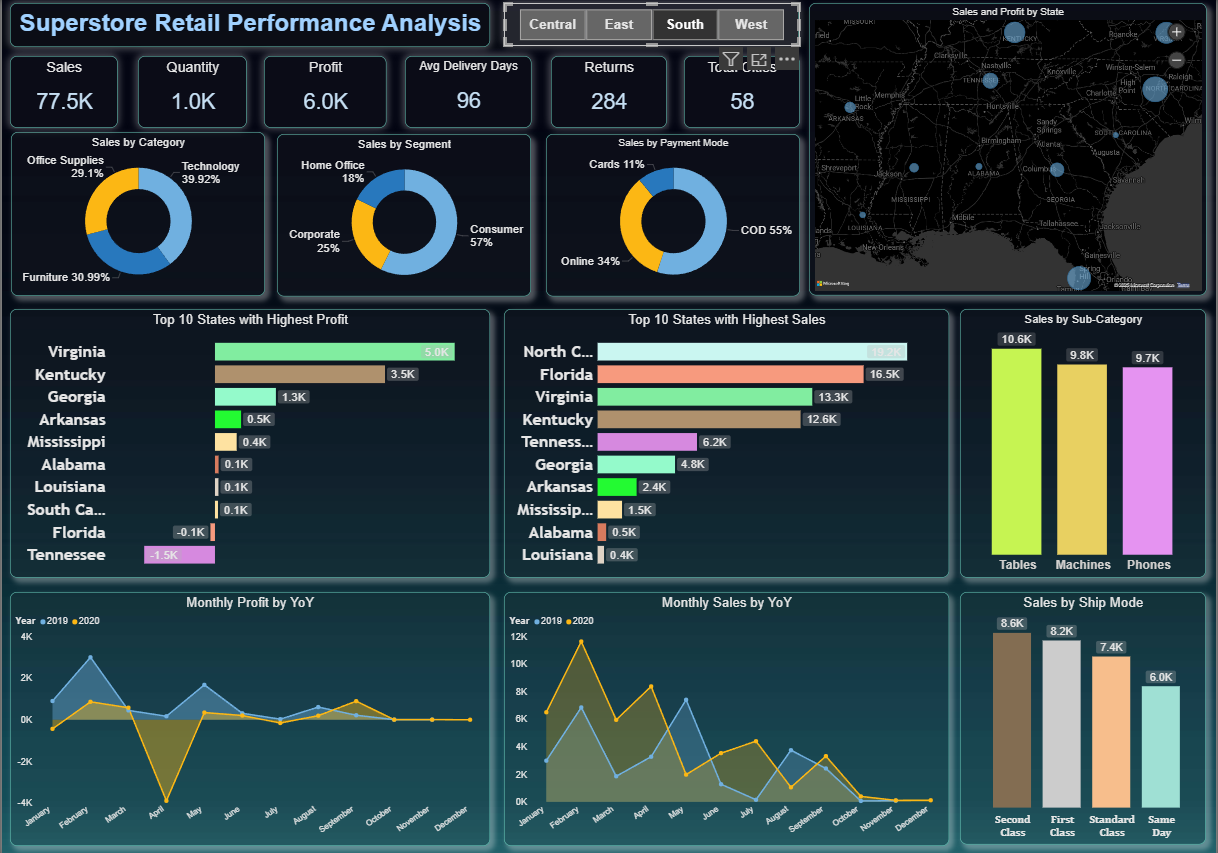

The dashboard page shown, as its layout file describes it:
{"tool":"powerbi","page":{"name":"Dashboard","canvas":[2400,1700],"ordinal":0},"visuals":[{"type":"donutChart","title":"Sales by Category","fields":{"Category":["SuperStore_Sales_Dataset.Category"],"Y":["Sum(SuperStore_Sales_Dataset.Sales)"]},"box":[17.8,264.9,502.1,324.2],"z":0},{"type":"clusteredColumnChart","title":"Sales by Sub-Category","fields":{"Category":["SuperStore_Sales_Dataset.Sub-Category"],"Y":["Sum(SuperStore_Sales_Dataset.Sales)"]},"box":[1894.4,614.8,486.1,530.8],"z":1000},{"type":"clusteredColumnChart","title":"Sales by Ship Mode","fields":{"Category":["SuperStore_Sales_Dataset.Ship Mode"],"Y":["Sum(SuperStore_Sales_Dataset.Sales)"]},"box":[1894.4,1174.5,486.1,499.2],"z":2000},{"type":"areaChart","title":"Monthly Sales by YoY ","fields":{"Y":["Sum(SuperStore_Sales_Dataset.Sales)"],"Category":["SuperStore_Sales_Dataset.Order Date.Variation.Date Hierarchy.Month","SuperStore_Sales_Dataset.Order Date.Variation.Date Hierarchy.Day"],"Series":["SuperStore_Sales_Dataset.Order Date.Variation.Date Hierarchy.Year"]},"box":[993.2,1174.5,880.2,501.9],"z":3000},{"type":"areaChart","title":"Monthly Profit by YoY ","fields":{"Category":["SuperStore_Sales_Dataset.Order Date.Variation.Date Hierarchy.Month","SuperStore_Sales_Dataset.Order Date.Variation.Date Hierarchy.Day"],"Series":["SuperStore_Sales_Dataset.Order Date.Variation.Date Hierarchy.Year"],"Y":["Sum(SuperStore_Sales_Dataset.Profit)"]},"box":[15.8,1174.5,948.5,501.9],"z":4000},{"type":"map","title":"Sales and Profit by State","fields":{"Category":["SuperStore_Sales_Dataset.State"],"Size":["Sum(SuperStore_Sales_Dataset.Sales)"]},"box":[1594.9,10.5,785.6,578.1],"z":5000},{"type":"donutChart","title":"Sales by Segment","fields":{"Category":["SuperStore_Sales_Dataset.Segment"],"Y":["Sum(SuperStore_Sales_Dataset.Sales)"]},"box":[543.9,268,501.9,320.6],"z":6000},{"type":"donutChart","title":"Sales by Payment Mode","fields":{"Category":["SuperStore_Sales_Dataset.Payment Mode"],"Y":["Sum(SuperStore_Sales_Dataset.Sales)"]},"box":[1074.7,268,501.9,320.6],"z":7000},{"type":"slicer","fields":{"Values":["SuperStore_Sales_Dataset.Region"]},"box":[993.2,10.5,583.3,84.1],"z":8000},{"type":"textbox","box":[15.8,10.5,948.5,86.7],"z":9000},{"type":"card","title":"Sales","fields":{"Values":["Sum(SuperStore_Sales_Dataset.Sales)"]},"box":[15.8,115.6,212.8,141.9],"z":10000},{"type":"card","title":"Quantity","fields":{"Values":["Sum(SuperStore_Sales_Dataset.Quantity)"]},"box":[268,115.6,215.5,141.9],"z":11000},{"type":"card","title":"Profit","fields":{"Values":["Sum(SuperStore_Sales_Dataset.Profit)"]},"box":[517.6,115.6,241.7,141.9],"z":12000},{"type":"card","title":"Avg Delivery Days","fields":{"Values":["Avg(SuperStore_Sales_Dataset.AvgDelivery)"]},"box":[796.1,115.6,249.6,141.9],"z":13000},{"type":"card","title":"Returns","fields":{"Values":["CountNonNull(SuperStore_Sales_Dataset.Returns)"]},"box":[1085.2,115.6,228.6,141.9],"z":14000},{"type":"card","title":"Total Cities","fields":{"Values":["Count(SuperStore_Sales_Dataset.City)"]},"box":[1347.9,115.6,228.6,141.9],"z":15000},{"type":"clusteredBarChart","title":"Top 10 States with Highest Sales","fields":{"Category":["SuperStore_Sales_Dataset.State"],"Y":["Sum(SuperStore_Sales_Dataset.Sales)"]},"box":[993.2,614.8,880.2,530.8],"z":16000},{"type":"clusteredBarChart","title":"Top 10 States with Highest Profit ","fields":{"Category":["SuperStore_Sales_Dataset.State"],"Y":["Sum(SuperStore_Sales_Dataset.Profit)"]},"box":[15.8,614.8,948.5,530.8],"z":17000}]}

Visuals, with their boxes in screenshot pixels (x1, y1, x2, y2), scaled from the page's 2400x1700 canvas onto the 1218x853 screenshot:
"Sales by Category" donutChart: {"left": 9, "top": 133, "right": 264, "bottom": 296}
"Sales by Sub-Category" clusteredColumnChart: {"left": 961, "top": 308, "right": 1208, "bottom": 575}
"Sales by Ship Mode" clusteredColumnChart: {"left": 961, "top": 589, "right": 1208, "bottom": 840}
"Monthly Sales by YoY " areaChart: {"left": 504, "top": 589, "right": 951, "bottom": 841}
"Monthly Profit by YoY " areaChart: {"left": 8, "top": 589, "right": 489, "bottom": 841}
"Sales and Profit by State" map: {"left": 809, "top": 5, "right": 1208, "bottom": 295}
"Sales by Segment" donutChart: {"left": 276, "top": 134, "right": 531, "bottom": 295}
"Sales by Payment Mode" donutChart: {"left": 545, "top": 134, "right": 800, "bottom": 295}
slicer - SuperStore_Sales_Dataset.Region: {"left": 504, "top": 5, "right": 800, "bottom": 47}
textbox: {"left": 8, "top": 5, "right": 489, "bottom": 49}
"Sales" card: {"left": 8, "top": 58, "right": 116, "bottom": 129}
"Quantity" card: {"left": 136, "top": 58, "right": 245, "bottom": 129}
"Profit" card: {"left": 263, "top": 58, "right": 385, "bottom": 129}
"Avg Delivery Days" card: {"left": 404, "top": 58, "right": 531, "bottom": 129}
"Returns" card: {"left": 551, "top": 58, "right": 667, "bottom": 129}
"Total Cities" card: {"left": 684, "top": 58, "right": 800, "bottom": 129}
"Top 10 States with Highest Sales" clusteredBarChart: {"left": 504, "top": 308, "right": 951, "bottom": 575}
"Top 10 States with Highest Profit " clusteredBarChart: {"left": 8, "top": 308, "right": 489, "bottom": 575}
